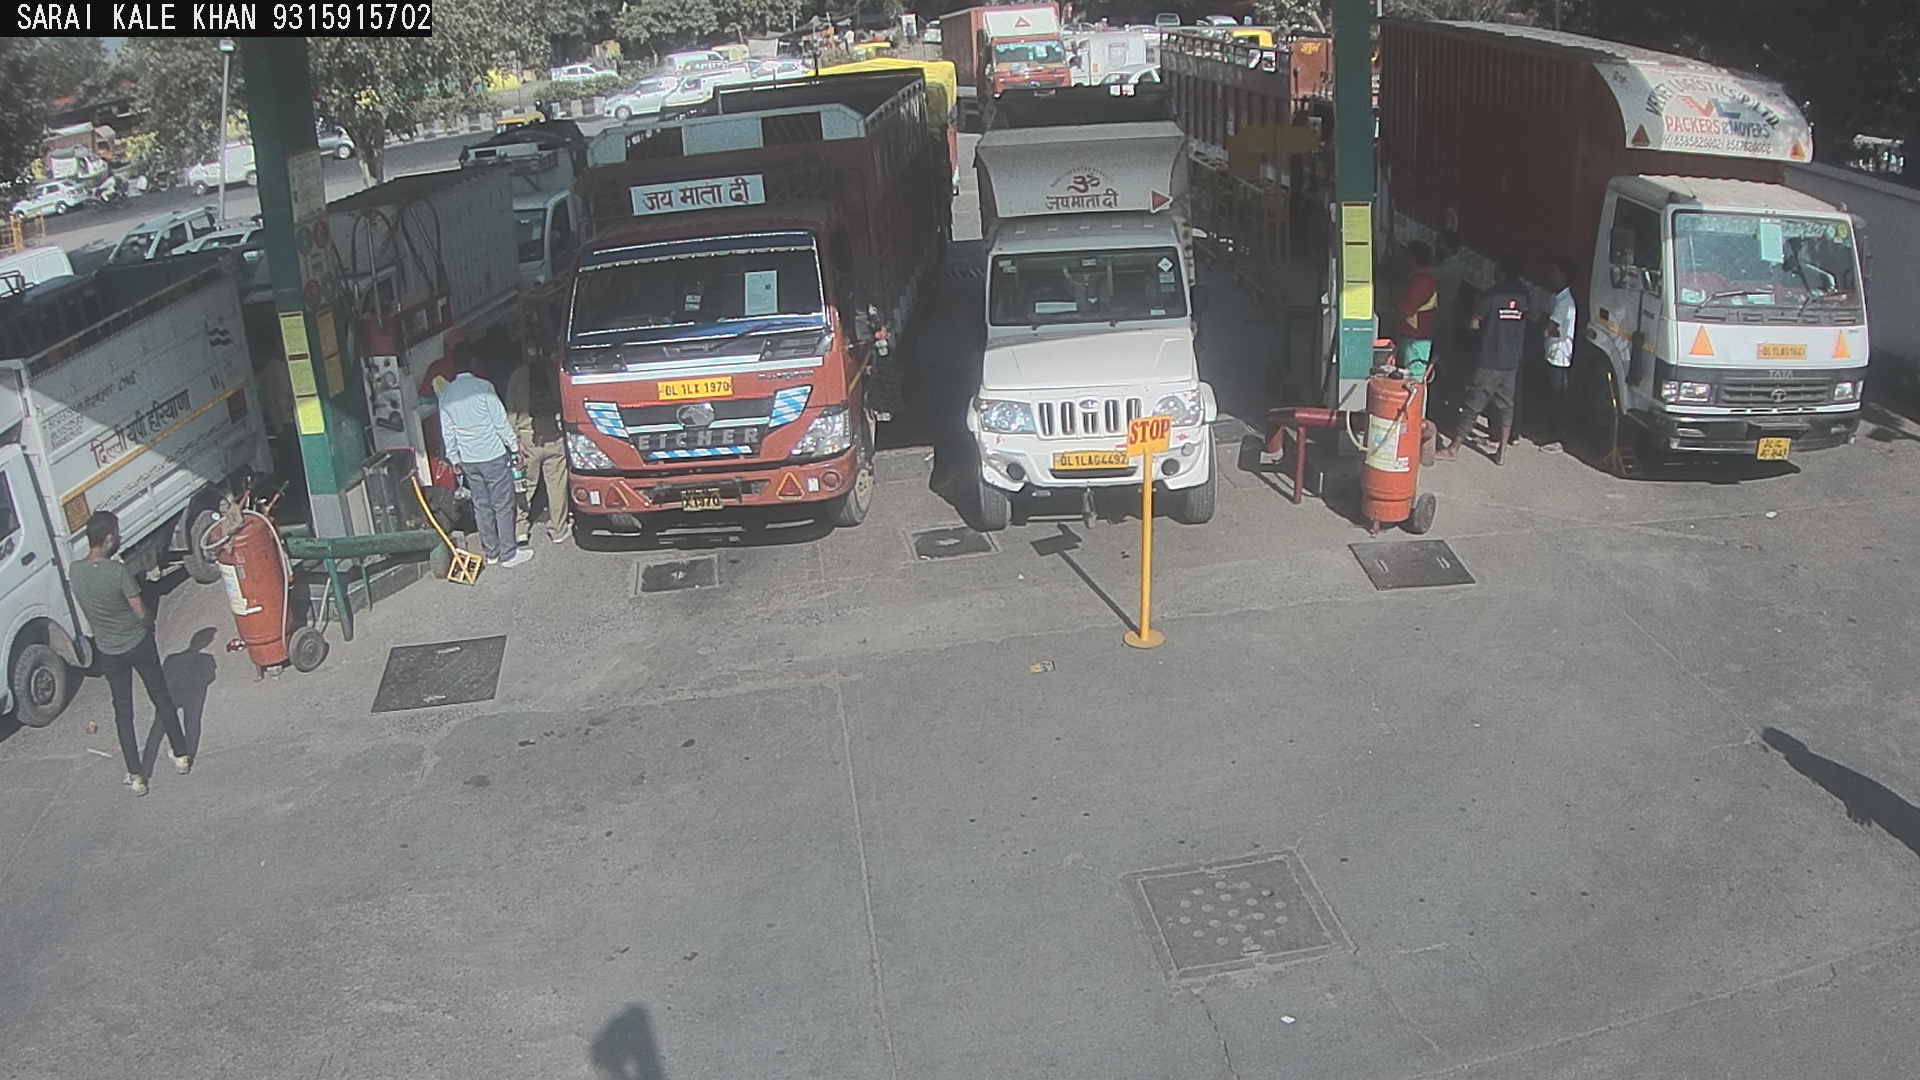Auto: (0, 266, 83, 351)
Car: (175, 191, 294, 361), (95, 185, 235, 280), (1, 236, 90, 328), (593, 67, 695, 133), (1083, 47, 1179, 116), (306, 116, 378, 167)
HMV: (1362, 3, 1898, 485), (526, 47, 953, 568), (936, 57, 1262, 579), (3, 243, 289, 754), (305, 153, 537, 419), (1145, 1, 1365, 274), (803, 20, 978, 305), (454, 98, 622, 347), (923, 1, 1085, 135), (1058, 18, 1150, 107)
Others: (419, 316, 509, 527), (1379, 227, 1452, 452)
Others Other: (1105, 397, 1185, 663)
